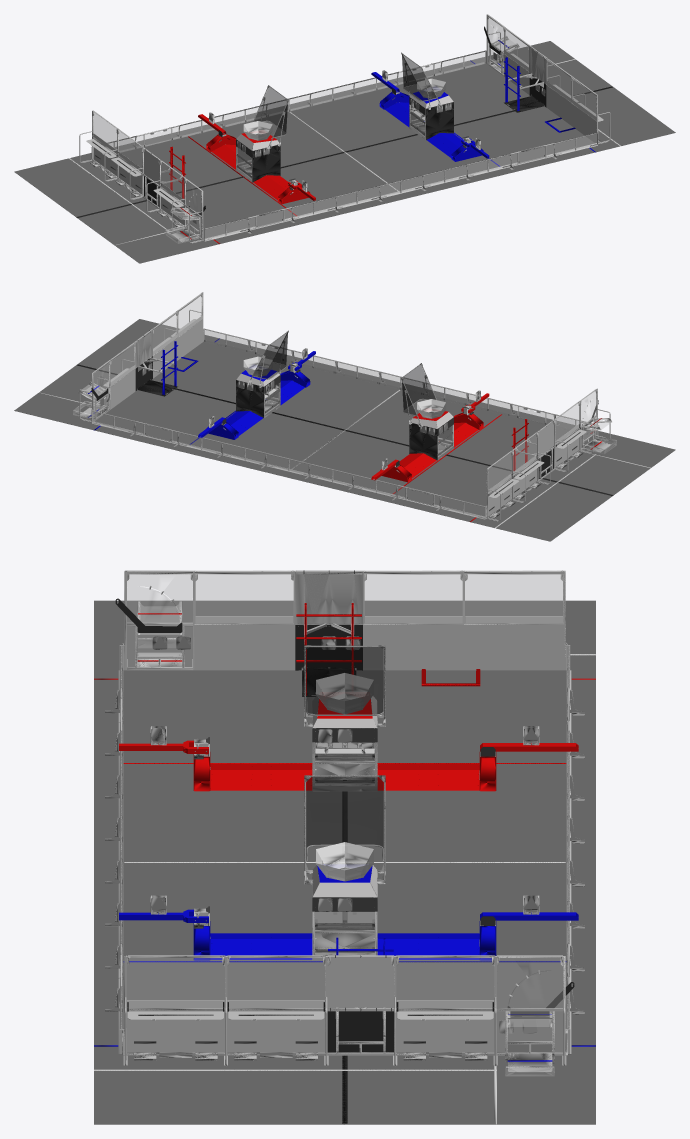
Rendered from field.glb.
The picture shows the model from 3 angles, top to bottom: view 1: azimuth 30°, elevation 25°; view 2: azimuth 150°, elevation 25°; view 3: azimuth 270°, elevation 25°; orthographic projection. The views are drawn at different scales.
Visible parts, largest first — view 1: FieldMesh; view 2: FieldMesh; view 3: FieldMesh.
Boxes of the visible parts, bbox=[...] form: FieldMesh: bbox=[14, 14, 675, 263]; FieldMesh: bbox=[14, 292, 675, 541]; FieldMesh: bbox=[94, 570, 595, 1124].
Bounding box in the file's own units: 22.56 × 3.06 × 9.14.
